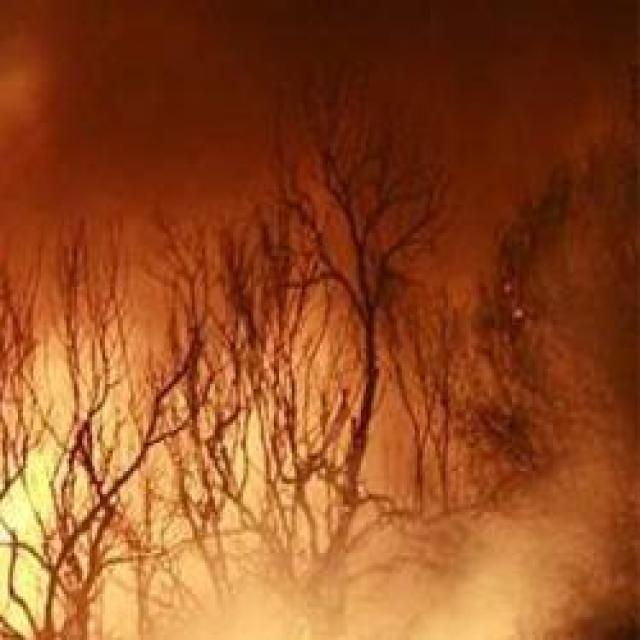fire: (9, 276, 582, 590)
